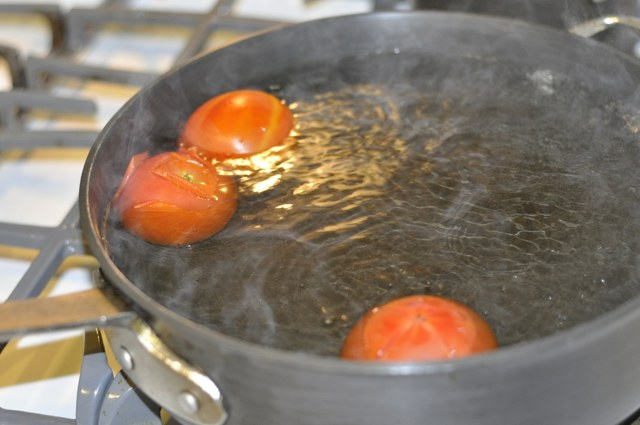tomato: (112, 147, 238, 248), (340, 294, 499, 363), (176, 90, 294, 159)
